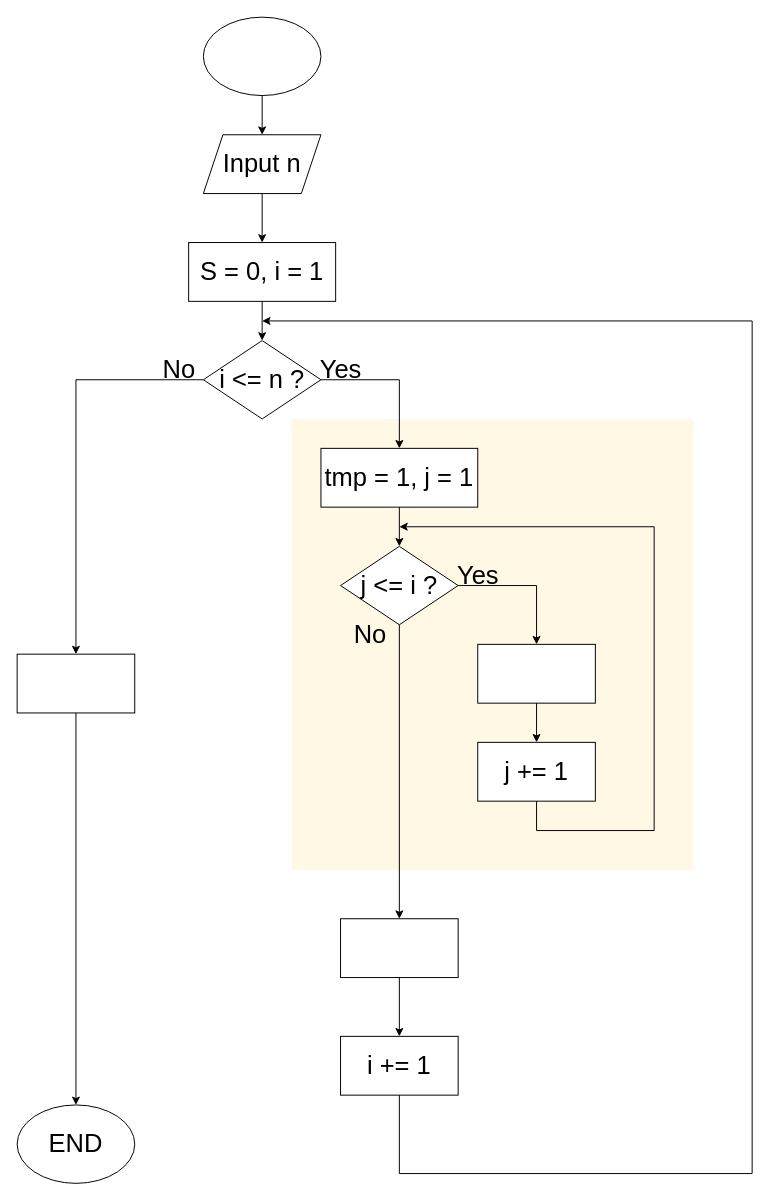
This 777x1201 diagram has some shape labels left out. Here are the shapes that lost their labels. From the top down, the box of each, then its label:
(202, 16, 321, 96): START
(16, 653, 135, 713): Print S
(477, 643, 595, 703): tmp *= j
(340, 918, 458, 978): S += tmp
